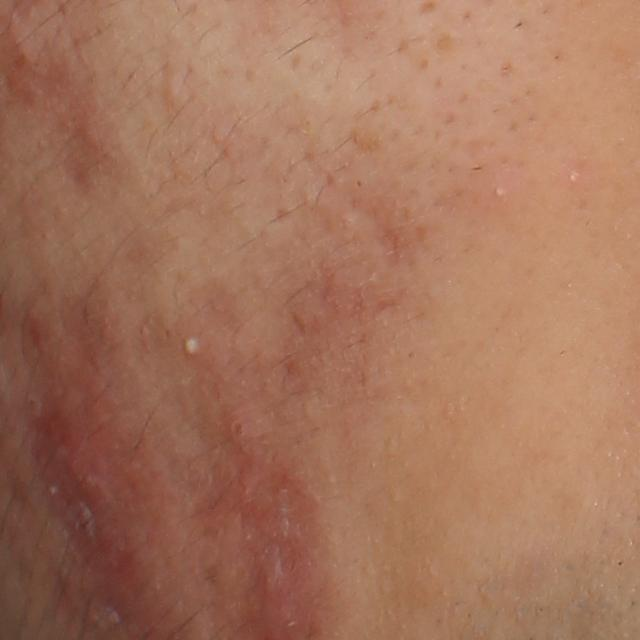atrophic_scar: (347, 194, 413, 271), (143, 55, 178, 125)
pustule: (172, 325, 211, 363)
